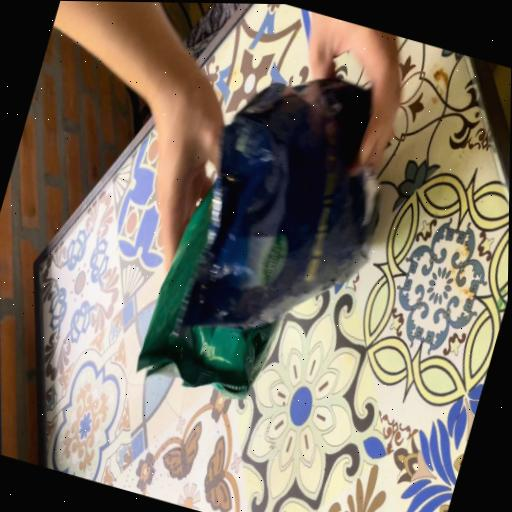cafe_hat: (208, 79, 369, 290)
cafe_xay: (137, 192, 277, 395)
